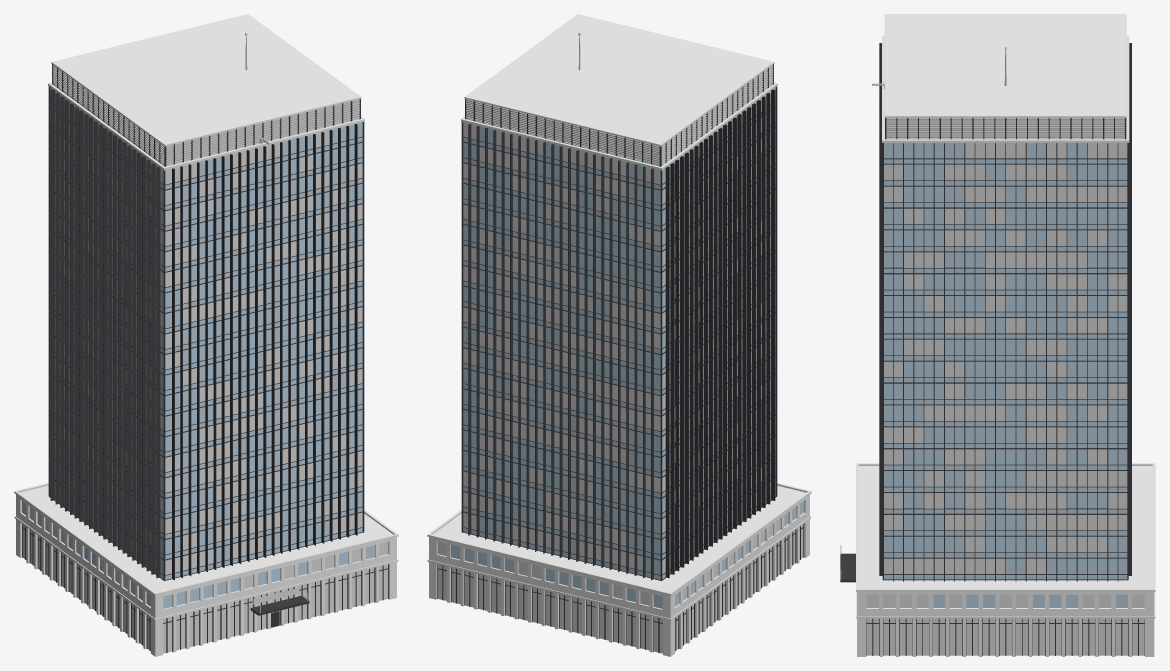
The model's file is tower_p320a.glb.
3 renders of one model, left to right at view 1: azimuth 30°, elevation 25°; view 2: azimuth 150°, elevation 25°; view 3: azimuth 270°, elevation 25°, orthographic. The views are drawn at different scales.
Visible parts, largest first — view 1: tower_p320a_Accent, tower_p320a_Glass, tower_p320a_WindowsLit, tower_p320a_Roof, tower_p320a_Frames, tower_p320a_Walls2, tower_p320a_Trim, tower_p320a_Details; view 2: tower_p320a_Accent, tower_p320a_Glass, tower_p320a_WindowsLit, tower_p320a_Roof, tower_p320a_Frames, tower_p320a_Walls2, tower_p320a_Trim, tower_p320a_Details; view 3: tower_p320a_Glass, tower_p320a_WindowsLit, tower_p320a_Roof, tower_p320a_Accent, tower_p320a_Frames, tower_p320a_Walls2, tower_p320a_Trim, tower_p320a_Details.
Boxes of the visible parts, <box> form: tower_p320a_Accent: <box>50,89,357,615</box>; tower_p320a_Glass: <box>22,87,374,608</box>; tower_p320a_WindowsLit: <box>22,101,388,653</box>; tower_p320a_Roof: <box>20,14,392,592</box>; tower_p320a_Frames: <box>22,64,388,652</box>; tower_p320a_Walls2: <box>16,494,396,656</box>; tower_p320a_Trim: <box>14,14,398,620</box>; tower_p320a_Details: <box>52,35,359,613</box>; tower_p320a_Accent: <box>468,89,775,580</box>; tower_p320a_Glass: <box>451,101,803,608</box>; tower_p320a_WindowsLit: <box>437,87,803,653</box>; tower_p320a_Roof: <box>433,14,805,592</box>; tower_p320a_Frames: <box>437,64,803,652</box>; tower_p320a_Walls2: <box>429,494,809,656</box>; tower_p320a_Trim: <box>427,14,811,620</box>; tower_p320a_Details: <box>466,35,773,165</box>; tower_p320a_Glass: <box>884,143,1127,607</box>; tower_p320a_WindowsLit: <box>866,143,1144,655</box>; tower_p320a_Roof: <box>858,14,1152,588</box>; tower_p320a_Accent: <box>840,43,1131,582</box>; tower_p320a_Frames: <box>866,118,1144,655</box>; tower_p320a_Walls2: <box>857,592,1154,656</box>; tower_p320a_Trim: <box>856,14,1155,618</box>; tower_p320a_Details: <box>840,49,1124,578</box>.
Bounding box in the file's own units: 161 × 338 × 170.
